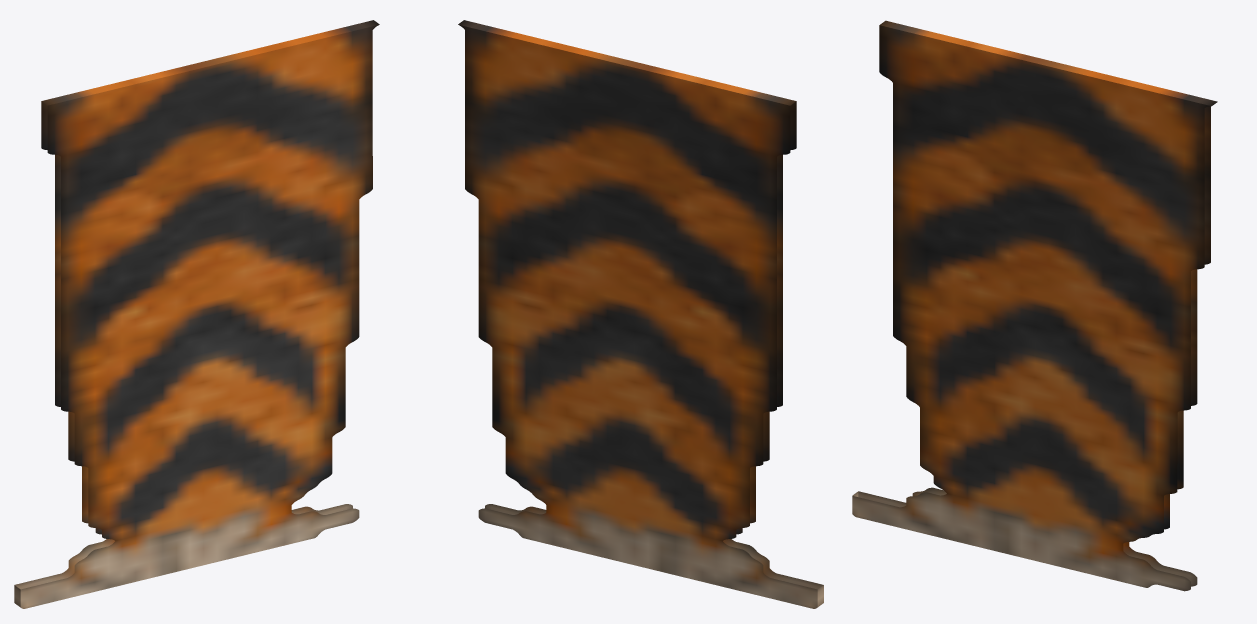
File: feather_nok_03.dae
3 renders of one model, left to right at view 1: azimuth 30°, elevation 25°; view 2: azimuth 150°, elevation 25°; view 3: azimuth 330°, elevation 25°, orthographic.
Visible parts, largest first — view 1: a_feather_nok_03; view 2: a_feather_nok_03; view 3: a_feather_nok_03.
Part boxes in pixels (bbox=[...]): a_feather_nok_03: bbox=[14, 20, 379, 608]; a_feather_nok_03: bbox=[458, 20, 823, 608]; a_feather_nok_03: bbox=[852, 20, 1217, 591].
Bounding box in the file's own units: 0.7126 × 0.0205 × 0.8818.
